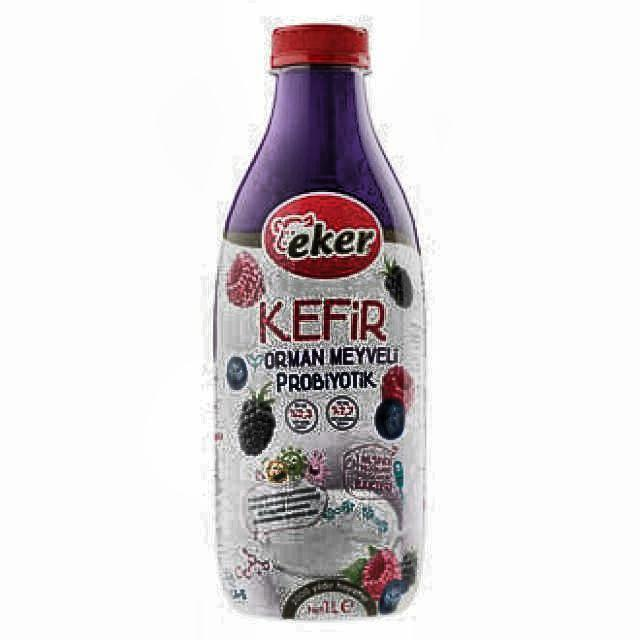plastic: (209, 21, 431, 626)
